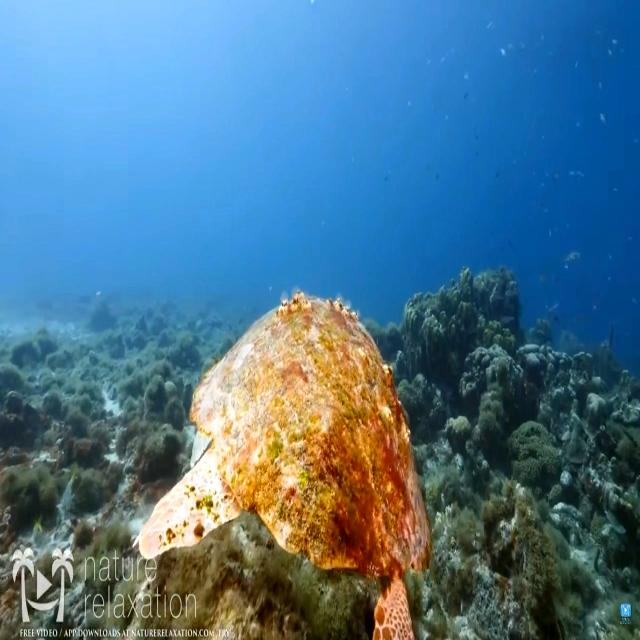Sea turtle: (123, 291, 433, 640)
